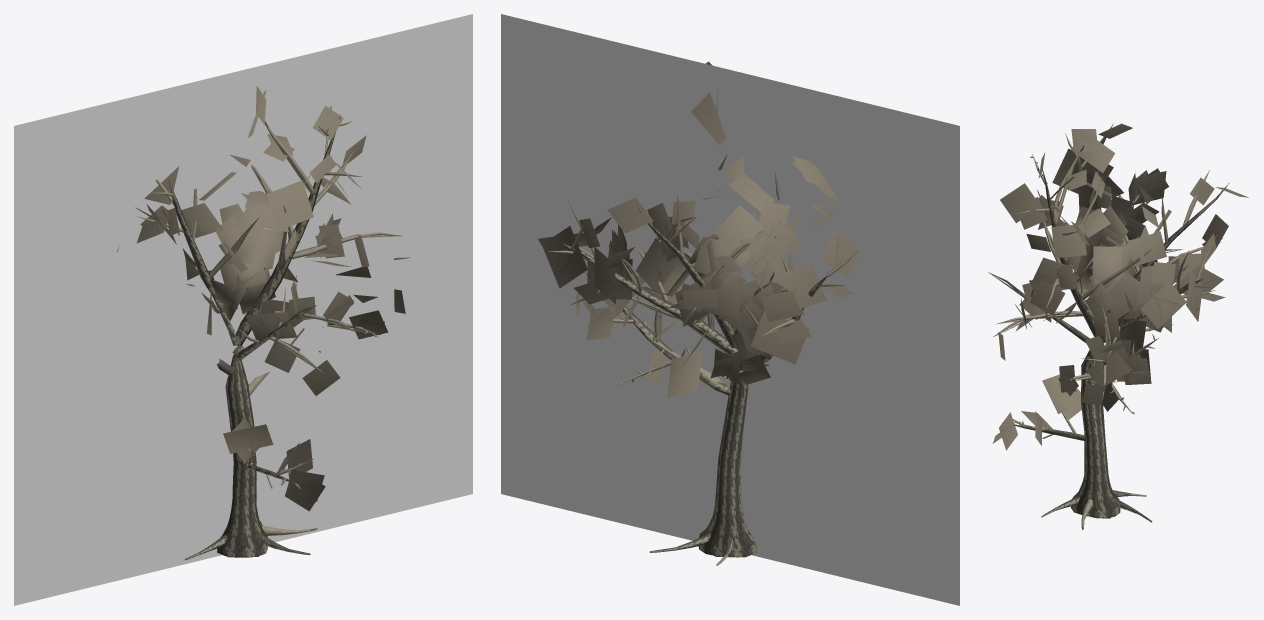
File: mort_adulte_b.fbx
3 views of the same model, side by side, from view 1: azimuth 30°, elevation 25°; view 2: azimuth 150°, elevation 25°; view 3: azimuth 270°, elevation 25° (orthographic). The views are drawn at different scales.
Parts seen in each view (by area): view 1: mort_adulte_b_LOD3, mort_adulte_b_LOD1, mort_adulte_b_LOD2; view 2: mort_adulte_b_LOD3, mort_adulte_b_LOD2, mort_adulte_b_LOD1; view 3: mort_adulte_b_LOD1, mort_adulte_b_LOD2.
Part boxes in pixels (x1=…): mort_adulte_b_LOD3: x1=14, y1=14, x2=472, y2=605; mort_adulte_b_LOD1: x1=116, y1=85, x2=410, y2=559; mort_adulte_b_LOD2: x1=144, y1=90, x2=401, y2=559; mort_adulte_b_LOD3: x1=501, y1=14, x2=959, y2=605; mort_adulte_b_LOD2: x1=538, y1=92, x2=844, y2=564; mort_adulte_b_LOD1: x1=548, y1=61, x2=859, y2=565; mort_adulte_b_LOD1: x1=989, y1=123, x2=1248, y2=529; mort_adulte_b_LOD2: x1=988, y1=123, x2=1228, y2=529.
Size of what is drawn, in the model's own units: 16.26 by 16.26 by 9.55.
